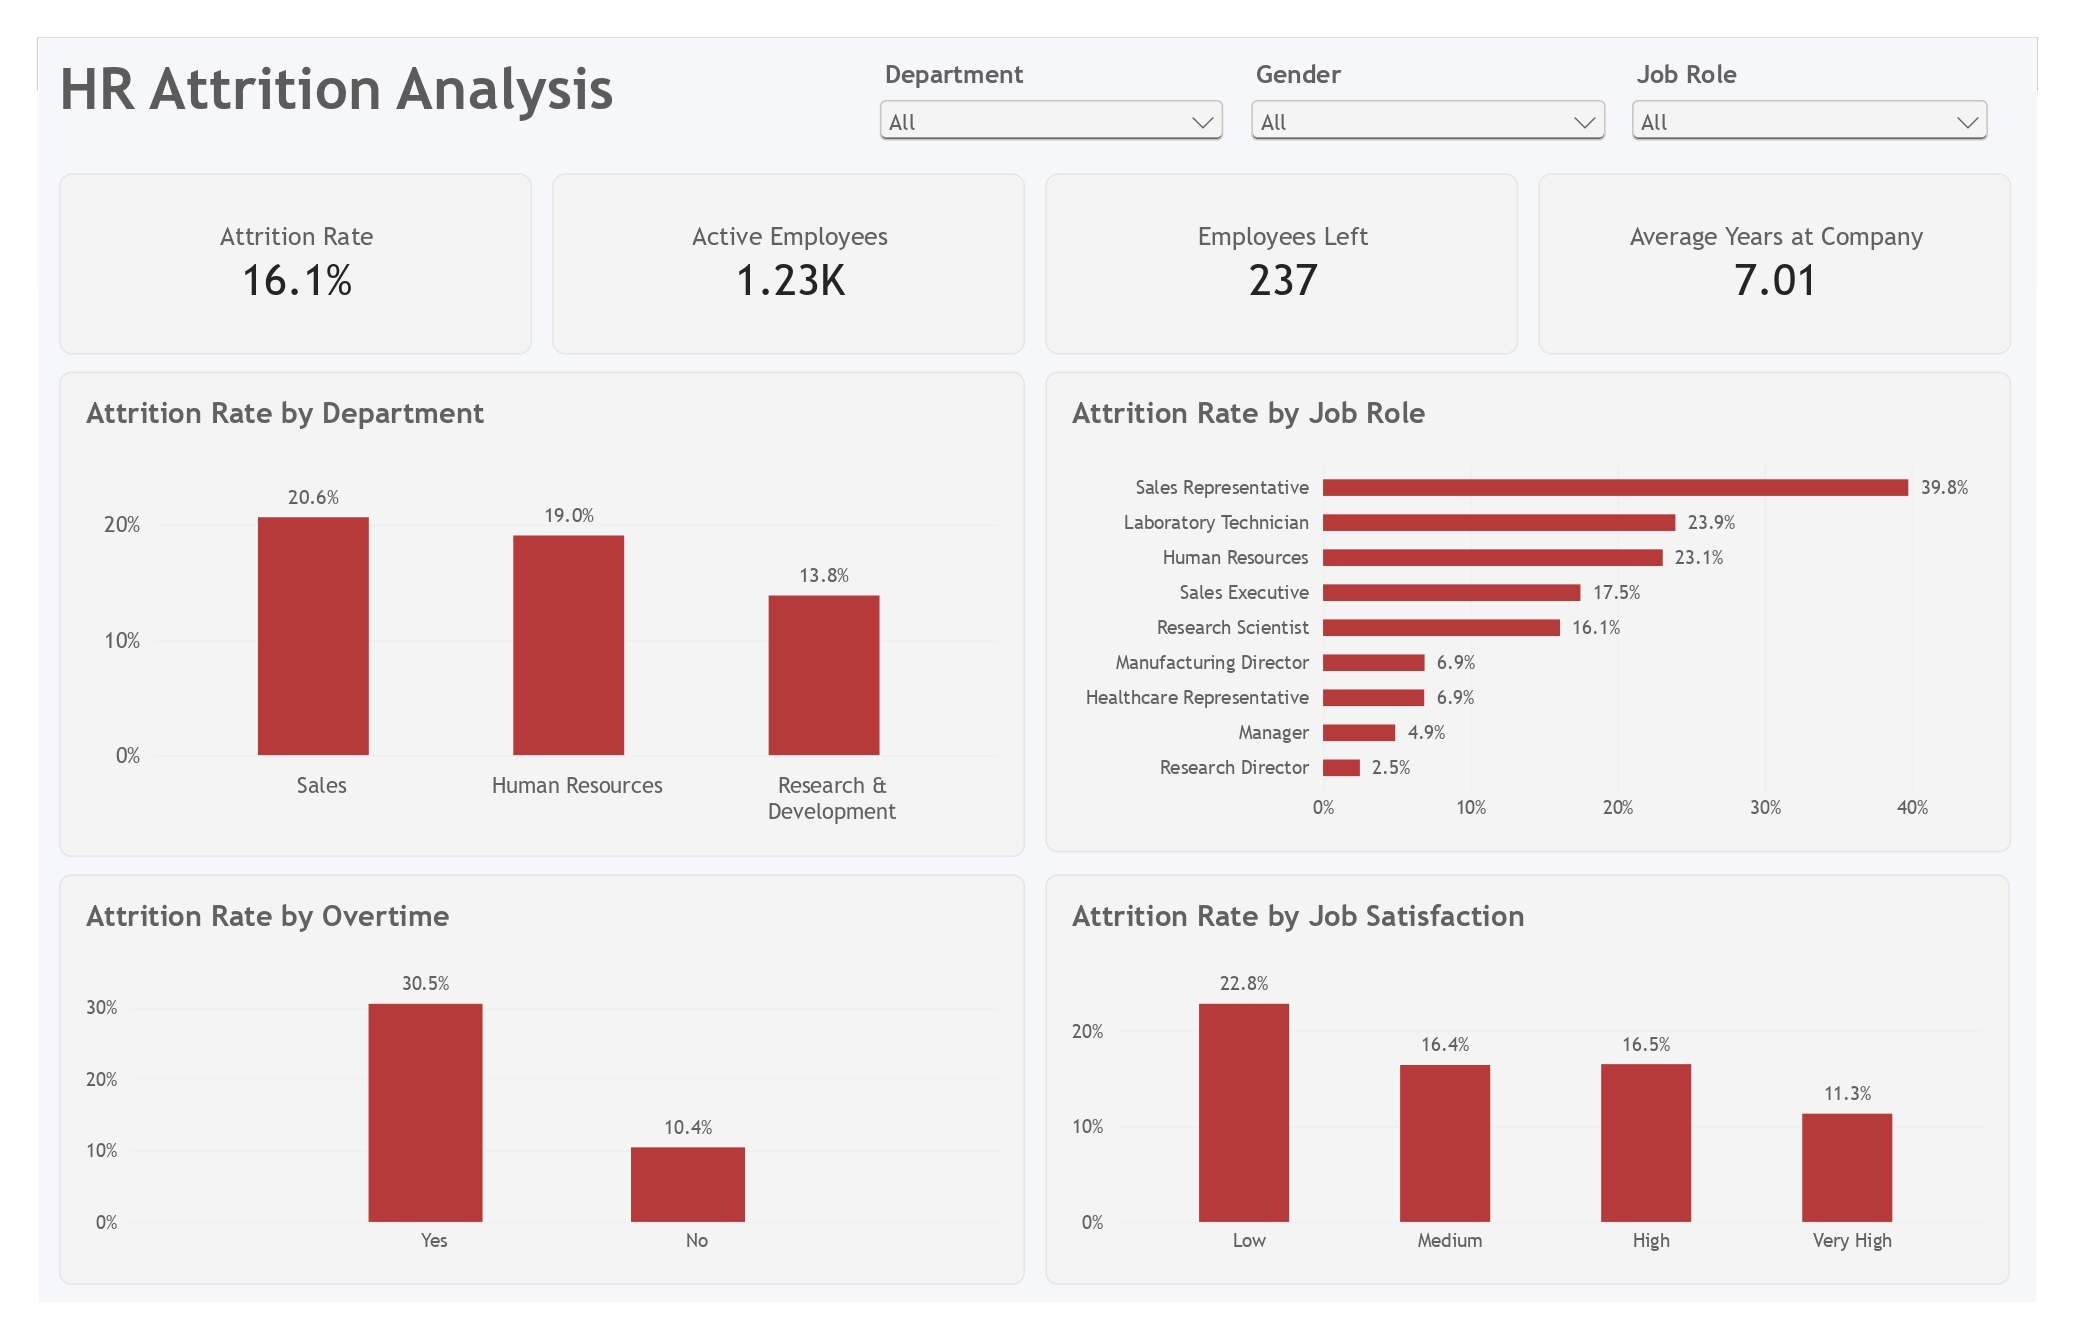

What the dashboard file says about the page in this screenshot:
{"tool":"powerbi","page":{"name":"Attrition Analysis","canvas":[1280,810],"ordinal":1},"visuals":[{"type":"textbox","box":[12.6,11,1256,70],"z":0},{"type":"cardVisual","fields":{"Data":["hr_employee_attrition_analytics.Attrition Rate"]},"box":[12.7,87,303.6,115.9],"z":2000},{"type":"slicer","fields":{"Values":["hr_employee_attrition_analytics.gender"]},"box":[771.7,14.5,237.3,61.6],"z":3000},{"type":"slicer","fields":{"Values":["hr_employee_attrition_analytics.department"]},"box":[534.4,14.5,230.1,59.8],"z":4000},{"type":"cardVisual","fields":{"Data":["hr_employee_attrition_analytics.Active Employees"]},"box":[328.7,87,303.6,115.9],"z":5000},{"type":"cardVisual","fields":{"Data":["hr_employee_attrition_analytics.Employees Left"]},"box":[644.8,87,303.6,115.9],"z":6000},{"type":"cardVisual","fields":{"Data":["hr_employee_attrition_analytics.Average Years at Company"]},"box":[960.9,87,303.6,115.9],"z":7000},{"type":"slicer","fields":{"Values":["hr_employee_attrition_analytics.job_role"]},"box":[1016.3,14.5,237.3,61.6],"z":8000},{"type":"clusteredColumnChart","title":"Attrition Rate by Department","fields":{"Category":["hr_employee_attrition_analytics.department"],"Y":["hr_employee_attrition_analytics.Attrition Rate"]},"box":[12.7,213.8,619.5,311.6],"z":9000},{"type":"clusteredBarChart","title":"Attrition Rate by Job Role","fields":{"Category":["hr_employee_attrition_analytics.job_role"],"Y":["hr_employee_attrition_analytics.Attrition Rate"]},"box":[644.9,213.8,619.5,308],"z":10000},{"type":"clusteredColumnChart","title":"Attrition Rate by Overtime","fields":{"Category":["hr_employee_attrition_analytics.over_time"],"Y":["hr_employee_attrition_analytics.Attrition Rate"]},"box":[12.7,536.2,619.5,262.7],"z":11000},{"type":"clusteredColumnChart","title":"Attrition Rate by Job Satisfaction","fields":{"Y":["hr_employee_attrition_analytics.Attrition Rate"],"Category":["hr_employee_attrition_analytics.Job Satisfaction Label"]},"box":[644.9,536.2,617.7,262.7],"z":12000}]}

Visuals, with their boxes on the page's 1280x810 design canvas (x1, y1, x2, y2). These are canvas units, not pixel positions in the 2075x1340 screenshot, which may show the page scaled, cropped or inside an application window:
textbox: box=[13, 11, 1269, 81]
cardVisual - hr_employee_attrition_analytics.Attrition Rate: box=[13, 87, 316, 203]
slicer - hr_employee_attrition_analytics.gender: box=[772, 14, 1009, 76]
slicer - hr_employee_attrition_analytics.department: box=[534, 14, 764, 74]
cardVisual - hr_employee_attrition_analytics.Active Employees: box=[329, 87, 632, 203]
cardVisual - hr_employee_attrition_analytics.Employees Left: box=[645, 87, 948, 203]
cardVisual - hr_employee_attrition_analytics.Average Years at Company: box=[961, 87, 1264, 203]
slicer - hr_employee_attrition_analytics.job_role: box=[1016, 14, 1254, 76]
"Attrition Rate by Department" clusteredColumnChart: box=[13, 214, 632, 525]
"Attrition Rate by Job Role" clusteredBarChart: box=[645, 214, 1264, 522]
"Attrition Rate by Overtime" clusteredColumnChart: box=[13, 536, 632, 799]
"Attrition Rate by Job Satisfaction" clusteredColumnChart: box=[645, 536, 1263, 799]
